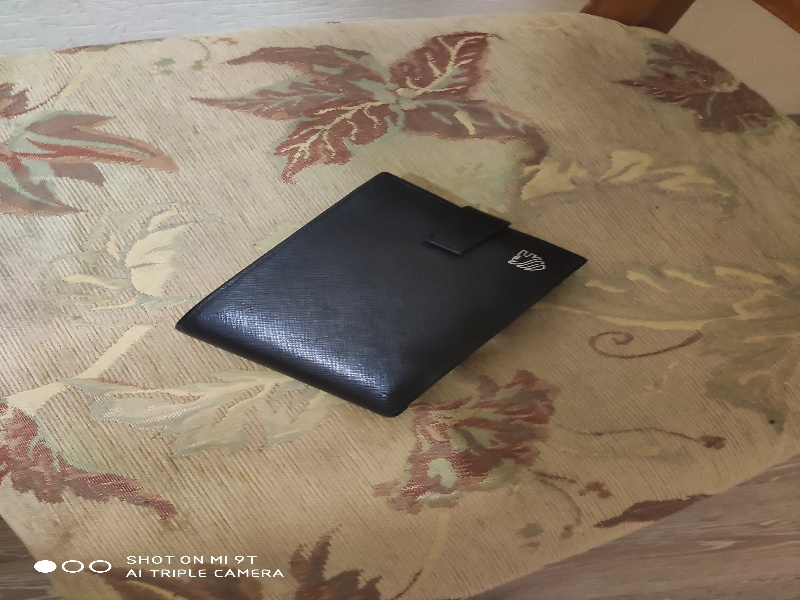wallet: (178, 168, 591, 425)
